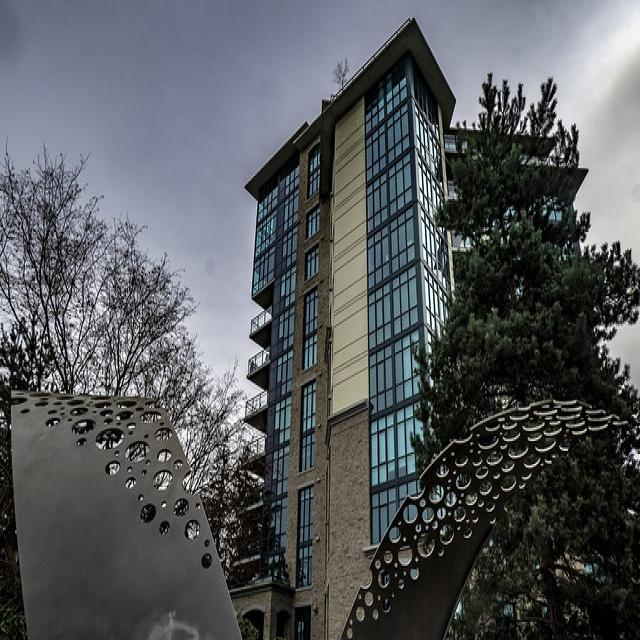building: (236, 13, 468, 640)
